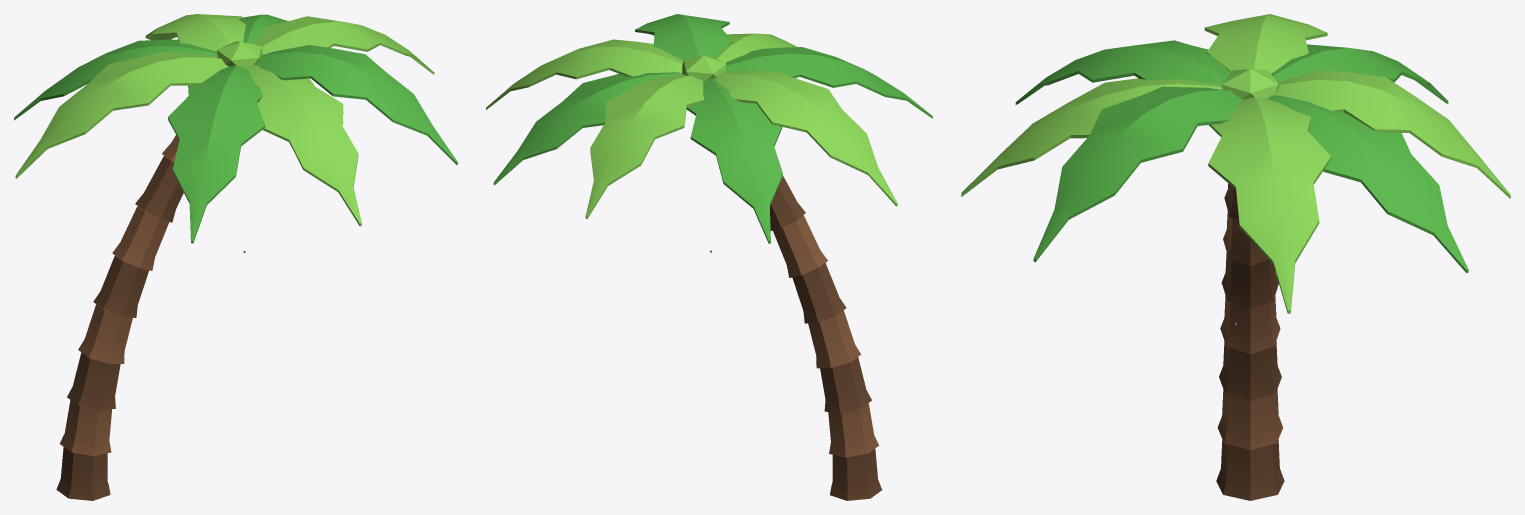
The model's file is PalmTreeBent.fbx.
3 renders of one model, left to right at view 1: azimuth 30°, elevation 25°; view 2: azimuth 150°, elevation 25°; view 3: azimuth 270°, elevation 25°, orthographic. The views are drawn at different scales.
Visible parts, largest first — view 1: PalmTreeBent_LeafLight, PalmTreeBent_Leaf, PalmTreeBent_BarkDark, PalmTreeBent_Bark; view 2: PalmTreeBent_LeafLight, PalmTreeBent_Leaf, PalmTreeBent_BarkDark, PalmTreeBent_Bark; view 3: PalmTreeBent_LeafLight, PalmTreeBent_Leaf, PalmTreeBent_BarkDark, PalmTreeBent_Bark.
Boxes of the visible parts, box(x1,y1,x2,y2) form: PalmTreeBent_LeafLight: box(15, 14, 434, 226); PalmTreeBent_Leaf: box(14, 14, 457, 243); PalmTreeBent_BarkDark: box(56, 156, 183, 500); PalmTreeBent_Bark: box(59, 135, 179, 456); PalmTreeBent_LeafLight: box(486, 33, 897, 218); PalmTreeBent_Leaf: box(493, 14, 932, 243); PalmTreeBent_BarkDark: box(770, 176, 881, 500); PalmTreeBent_Bark: box(773, 215, 878, 457); PalmTreeBent_LeafLight: box(961, 14, 1510, 313); PalmTreeBent_Leaf: box(1015, 40, 1468, 273); PalmTreeBent_BarkDark: box(1216, 183, 1284, 500); PalmTreeBent_Bark: box(1217, 211, 1283, 449).
Size of the model in its own units: 1242 by 1159 by 1126.
